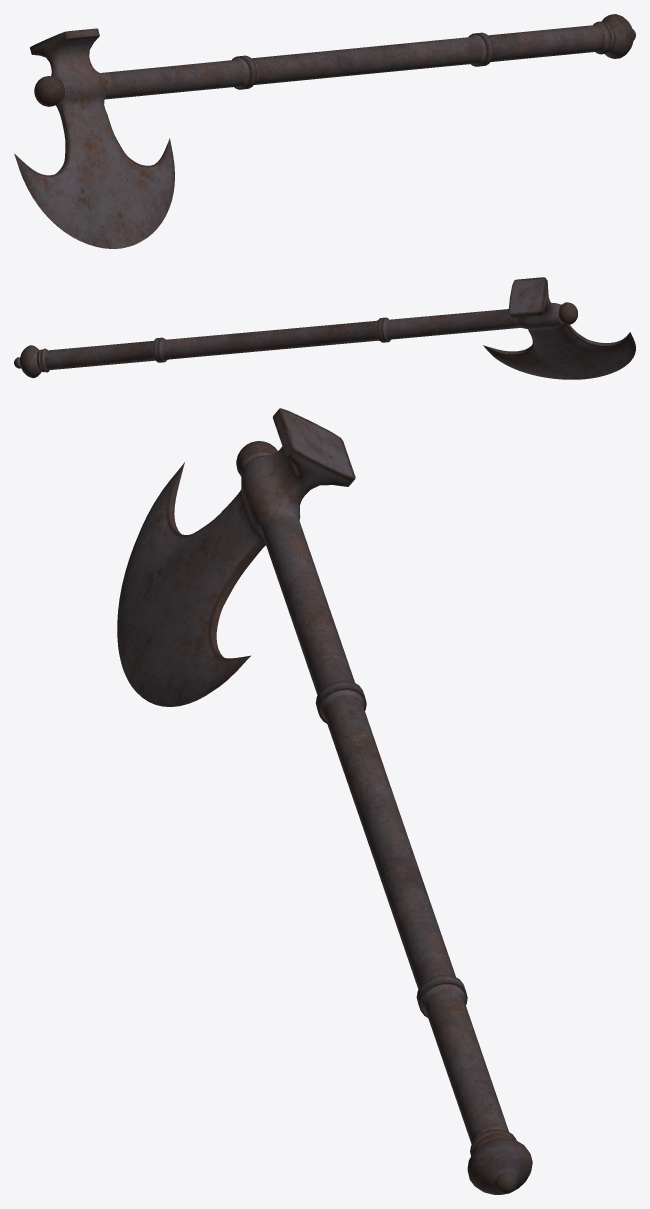
3 renders of one model, top to bottom at view 1: azimuth 30°, elevation 25°; view 2: azimuth 150°, elevation 25°; view 3: azimuth 270°, elevation 25°, orthographic. The views are drawn at different scales.
Parts seen in each view (by area): view 1: Circle; view 2: Circle; view 3: Circle.
Boxes of the visible parts, x1,y1,x2,y2 form: Circle: [14, 14, 635, 248]; Circle: [14, 277, 635, 379]; Circle: [117, 408, 532, 1194].
Size of the model in its own units: 1.98 by 0.6018 by 0.6656.
Materials: 1 (1 with a texture image).
